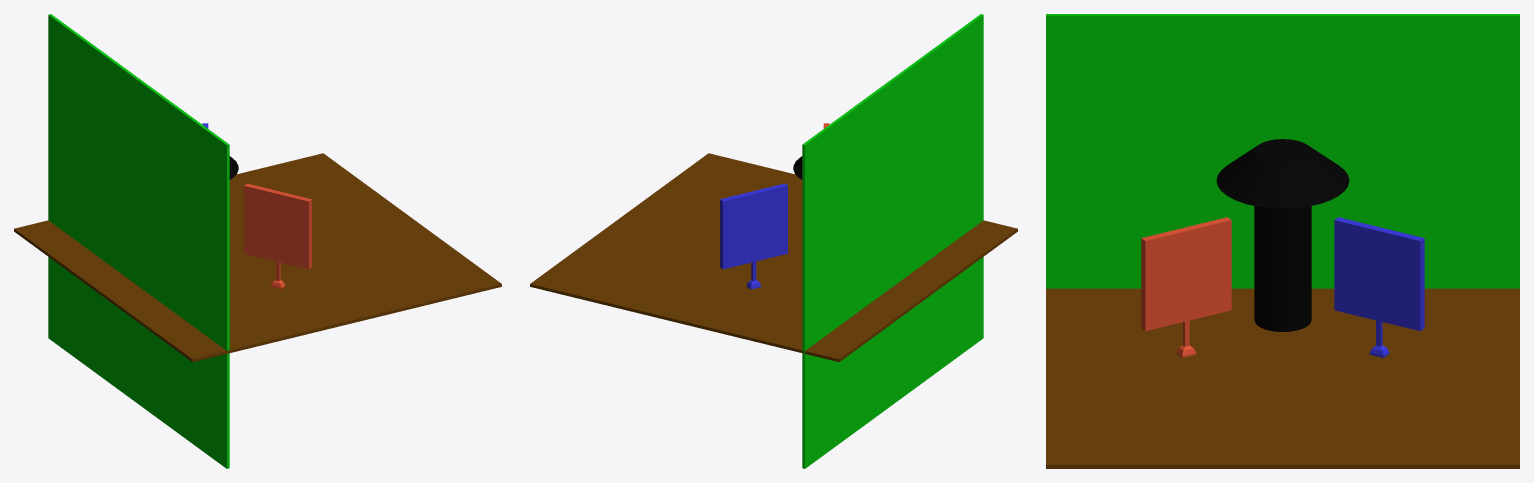
3 renders of one model, left to right at view 1: azimuth 30°, elevation 25°; view 2: azimuth 150°, elevation 25°; view 3: azimuth 270°, elevation 25°, orthographic. The views are drawn at different scales.
Parts seen in each view (by area): view 1: Cube.003, Cube.002, Cube; view 2: Cube.003, Cube.002, Cube.001; view 3: Cube.003, Cube.002, Cylinder, Cube.001, Cube.
Boxes of the visible parts, bbox=[...] form: Cube.003: bbox=[48, 14, 229, 468]; Cube.002: bbox=[14, 153, 501, 362]; Cube: bbox=[244, 183, 311, 289]; Cube.003: bbox=[802, 14, 983, 468]; Cube.002: bbox=[530, 153, 1017, 362]; Cube.001: bbox=[720, 183, 787, 289]; Cube.003: bbox=[1046, 14, 1519, 288]; Cube.002: bbox=[1046, 288, 1519, 468]; Cylinder: bbox=[1216, 139, 1349, 331]; Cube.001: bbox=[1334, 217, 1424, 357]; Cube: bbox=[1141, 217, 1231, 357].
Size of the model in its own units: 8.5 by 8.5 by 8.5.
